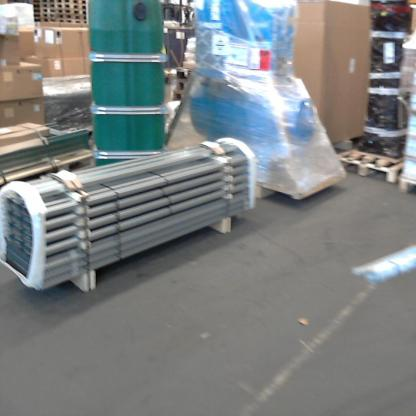pallet: (3, 144, 104, 194), (247, 162, 347, 212), (332, 139, 400, 194), (395, 172, 414, 201), (173, 91, 198, 113), (168, 75, 196, 93), (172, 65, 199, 82)
